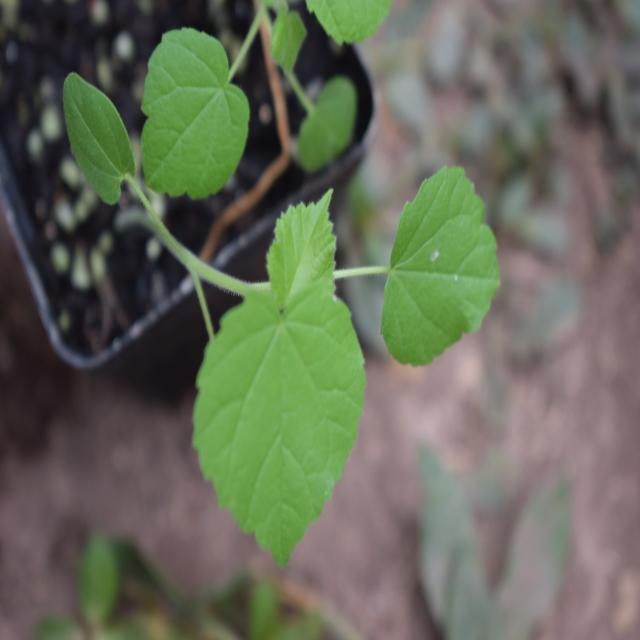abutilon theophrasti: (161, 126, 496, 550)
